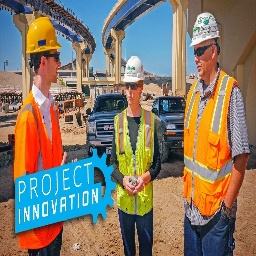helmet: (26, 16, 62, 56), (188, 9, 222, 47), (122, 53, 147, 86)
person: (181, 12, 249, 256), (109, 54, 161, 256), (14, 14, 66, 171)
vest: (182, 78, 240, 231), (110, 110, 160, 224), (17, 102, 66, 167)
